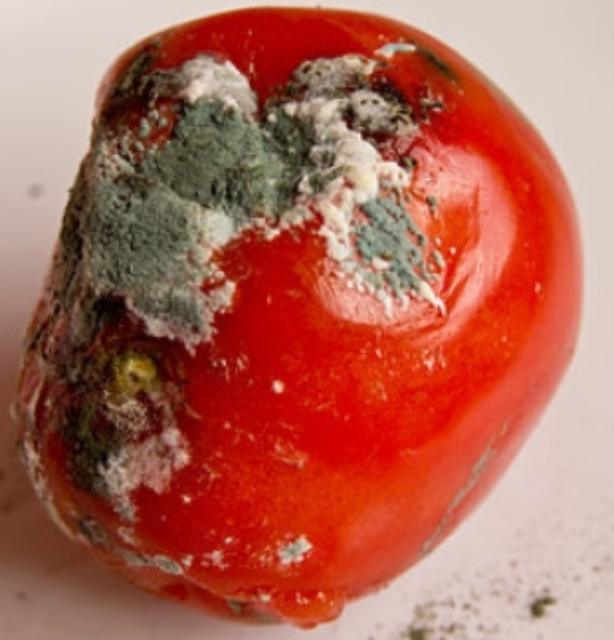defect: (15, 6, 587, 629)
